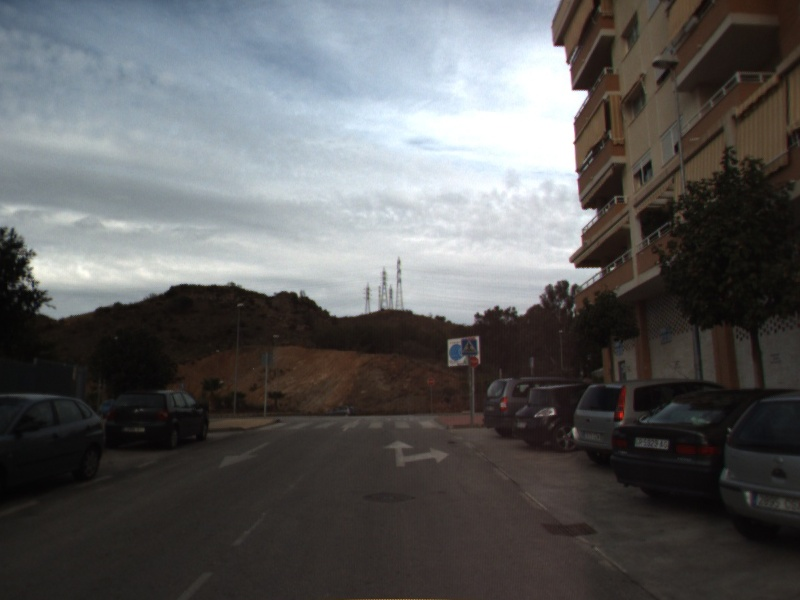STRAIGHT_RIGHT: (381, 437, 451, 469)
